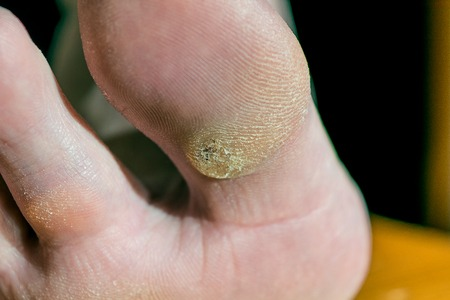Warts: (187, 114, 274, 184)
